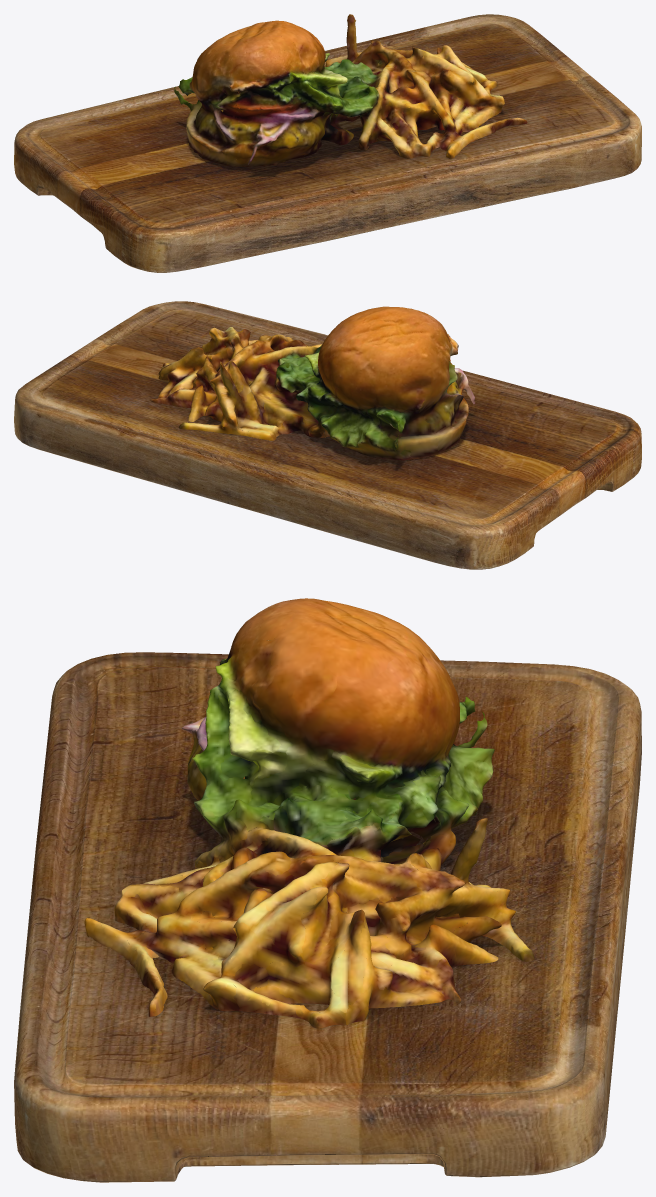
File: cheeseburger-tabua-fritas-mobile.glb
3 views of the same model, one above another, from view 1: azimuth 30°, elevation 25°; view 2: azimuth 150°, elevation 25°; view 3: azimuth 270°, elevation 25° (orthographic). The views are drawn at different scales.
Parts seen in each view (by area): view 1: tabua, comida, comida_7da721; view 2: tabua, comida, comida_7da721; view 3: tabua, comida, comida_7da721.
Boxes of the visible parts, x1=… form: tabua: x1=14, y1=14, x2=641, y2=272; comida: x1=174, y1=14, x2=527, y2=166; comida_7da721: x1=186, y1=36, x2=526, y2=164; tabua: x1=14, y1=301, x2=641, y2=569; comida: x1=150, y1=306, x2=475, y2=460; comida_7da721: x1=161, y1=307, x2=463, y2=459; tabua: x1=14, y1=652, x2=641, y2=1182; comida: x1=84, y1=598, x2=534, y2=1028; comida_7da721: x1=85, y1=599, x2=515, y2=1018.
Bounding box in the file's own units: 0.2426 × 0.0705 × 0.1391.
2 materials, 2 textured.
